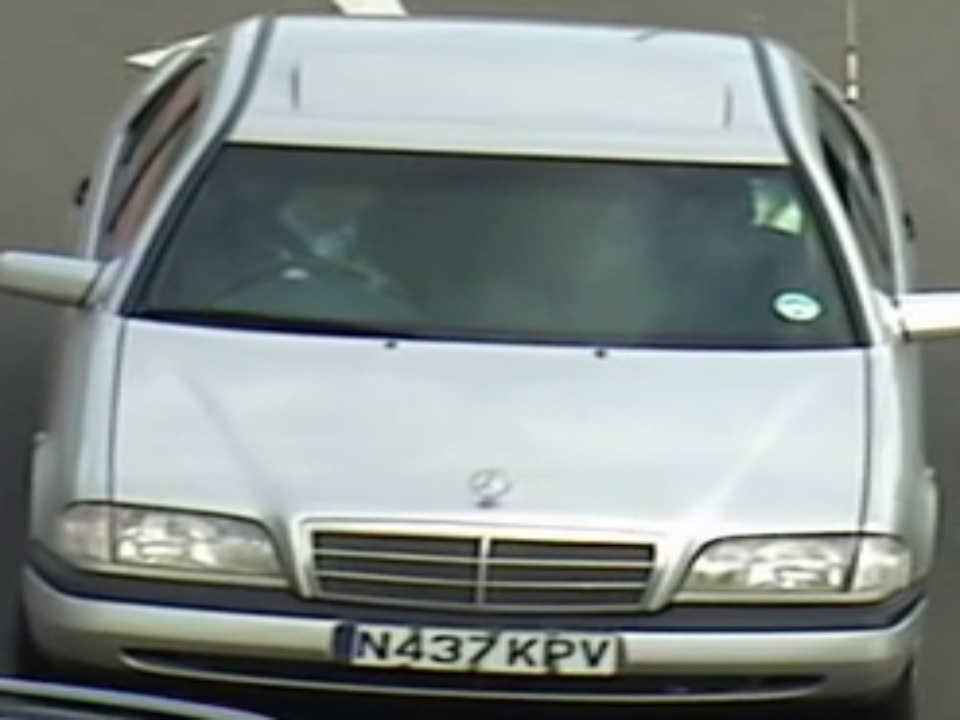ONE: (171, 137, 856, 341)
